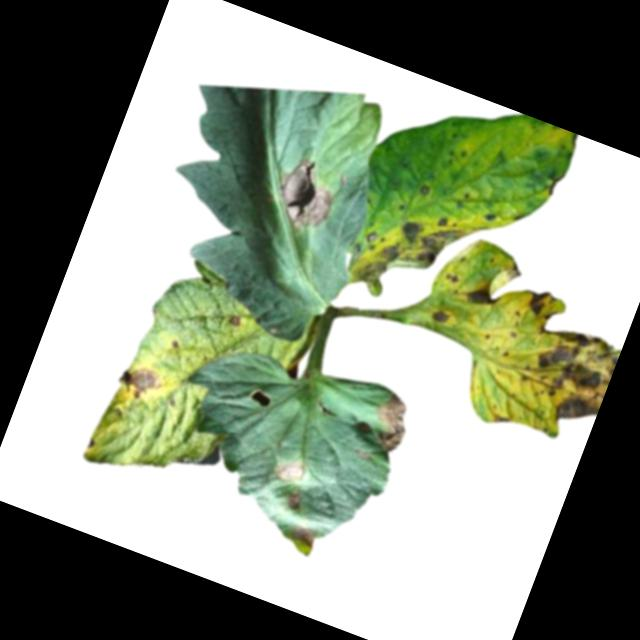Early_blight: (343, 191, 467, 312), (512, 314, 622, 432), (267, 151, 350, 239), (364, 387, 418, 459), (114, 360, 165, 405), (461, 281, 504, 317), (520, 283, 559, 322), (274, 455, 308, 489), (290, 521, 319, 548), (501, 257, 528, 285), (282, 490, 308, 515), (429, 305, 454, 330), (441, 267, 464, 290), (490, 410, 514, 429), (226, 312, 246, 330), (419, 181, 436, 198)
